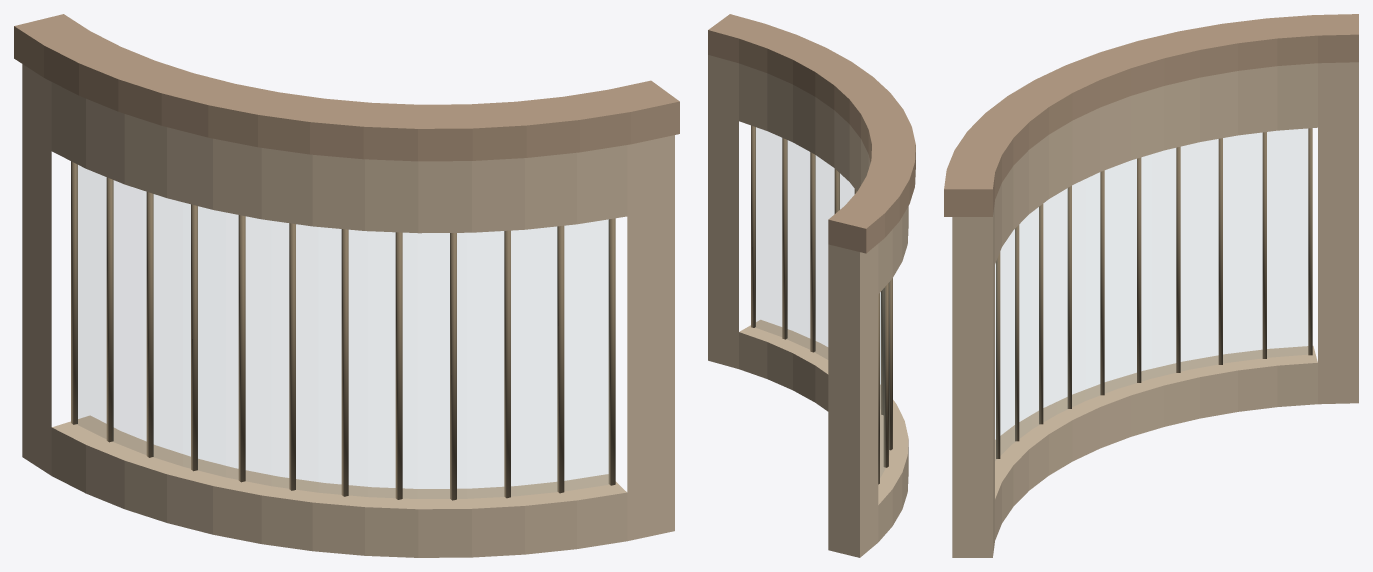
File: city_shop_corner_round.glb
3 renders of one model, left to right at view 1: azimuth 30°, elevation 25°; view 2: azimuth 150°, elevation 25°; view 3: azimuth 270°, elevation 25°, orthographic. The views are drawn at different scales.
Parts seen in each view (by area): view 1: CityShopCornerRound_WallGlass0, CityShopCornerRound_Wall, CityShopCornerRound_Band, CityShopCornerRound_WallMullion0_7, CityShopCornerRound_WallMullion0_6, CityShopCornerRound_WallMullion0_10, CityShopCornerRound_WallMullion0_11, CityShopCornerRound_WallMullion0_4, CityShopCornerRound_WallMullion0_2, CityShopCornerRound_WallMullion0_1, CityShopCornerRound_WallMullion0_9, CityShopCornerRound_WallMullion0_5 (+3 smaller); view 2: CityShopCornerRound_Wall, CityShopCornerRound_Band, CityShopCornerRound_WallGlass0, CityShopCornerRound_WallMullion0_10, CityShopCornerRound_WallMullion0_9, CityShopCornerRound_WallMullion0_2, CityShopCornerRound_WallMullion0_11, CityShopCornerRound_WallMullion0_3, CityShopCornerRound_WallMullion0_1, CityShopCornerRound_WallMullion0_5; view 3: CityShopCornerRound_Wall, CityShopCornerRound_WallGlass0, CityShopCornerRound_Band, CityShopCornerRound_WallMullion0_0, CityShopCornerRound_WallMullion0_1, CityShopCornerRound_WallMullion0_2, CityShopCornerRound_WallMullion0_3, CityShopCornerRound_WallMullion0_4, CityShopCornerRound_WallMullion0_5, CityShopCornerRound_WallMullion0_6, CityShopCornerRound_WallMullion0_7, CityShopCornerRound_WallMullion0_8 (+1 smaller).
Boxes of the visible parts, box(x1,y1,x2,y2) form: CityShopCornerRound_WallGlass0: box(77, 165, 608, 498); CityShopCornerRound_Wall: box(22, 64, 674, 557); CityShopCornerRound_Band: box(14, 14, 679, 161); CityShopCornerRound_WallMullion0_7: box(395, 232, 402, 499); CityShopCornerRound_WallMullion0_6: box(341, 229, 348, 496); CityShopCornerRound_WallMullion0_10: box(557, 225, 564, 493); CityShopCornerRound_WallMullion0_11: box(608, 218, 615, 485); CityShopCornerRound_WallMullion0_4: box(238, 215, 245, 482); CityShopCornerRound_WallMullion0_2: box(146, 192, 153, 457); CityShopCornerRound_WallMullion0_1: box(106, 177, 113, 442); CityShopCornerRound_WallMullion0_9: box(504, 230, 510, 498); CityShopCornerRound_WallMullion0_5: box(289, 223, 295, 490); CityShopCornerRound_Wall: box(708, 55, 908, 557); CityShopCornerRound_Band: box(708, 14, 915, 253); CityShopCornerRound_WallGlass0: box(755, 127, 889, 476); CityShopCornerRound_WallMullion0_10: box(782, 138, 787, 339); CityShopCornerRound_WallMullion0_9: box(810, 152, 815, 352); CityShopCornerRound_WallMullion0_2: box(883, 283, 888, 467); CityShopCornerRound_WallMullion0_11: box(751, 125, 755, 327); CityShopCornerRound_WallMullion0_3: box(889, 278, 892, 450); CityShopCornerRound_WallMullion0_1: box(878, 293, 879, 484); CityShopCornerRound_WallMullion0_5: box(881, 289, 883, 415); CityShopCornerRound_Wall: box(952, 62, 1358, 557); CityShopCornerRound_WallGlass0: box(995, 129, 1307, 460); CityShopCornerRound_Band: box(944, 14, 1358, 216); CityShopCornerRound_WallMullion0_0: box(1308, 128, 1312, 355); CityShopCornerRound_WallMullion0_1: box(1262, 132, 1266, 358); CityShopCornerRound_WallMullion0_2: box(1218, 138, 1222, 364); CityShopCornerRound_WallMullion0_3: box(1176, 146, 1180, 372); CityShopCornerRound_WallMullion0_4: box(1137, 157, 1141, 382); CityShopCornerRound_WallMullion0_5: box(1100, 170, 1104, 395); CityShopCornerRound_WallMullion0_6: box(1067, 185, 1071, 408); CityShopCornerRound_WallMullion0_7: box(1039, 204, 1043, 424); CityShopCornerRound_WallMullion0_8: box(1015, 225, 1019, 441).
Size of the model in its own units: 4.08 by 4 by 4.08.
